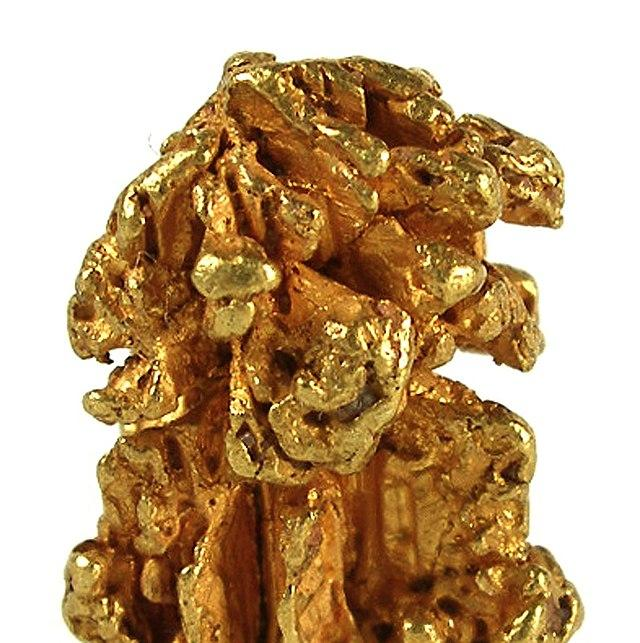gold: (56, 49, 601, 642)
